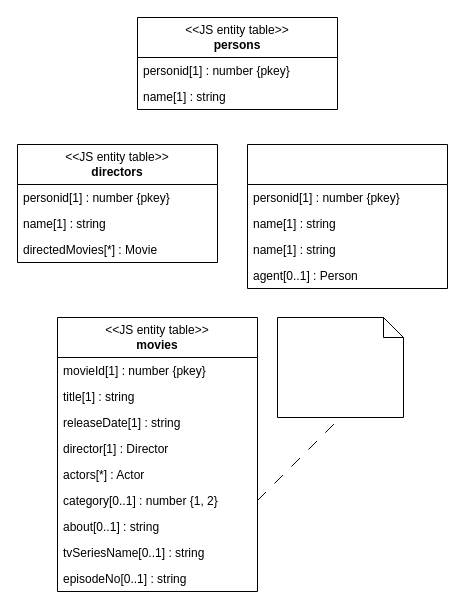
Some shapes in this 465 by 612 pixel diagram are drawn without their labels. The box of each missing label's shape, as (x1, y1, x2, y2) in pixels:
<<JS entity table>> actors: (246, 144, 448, 288)
category: 1 = Biography 2 = TvSeriesEpisode: (276, 316, 404, 418)
